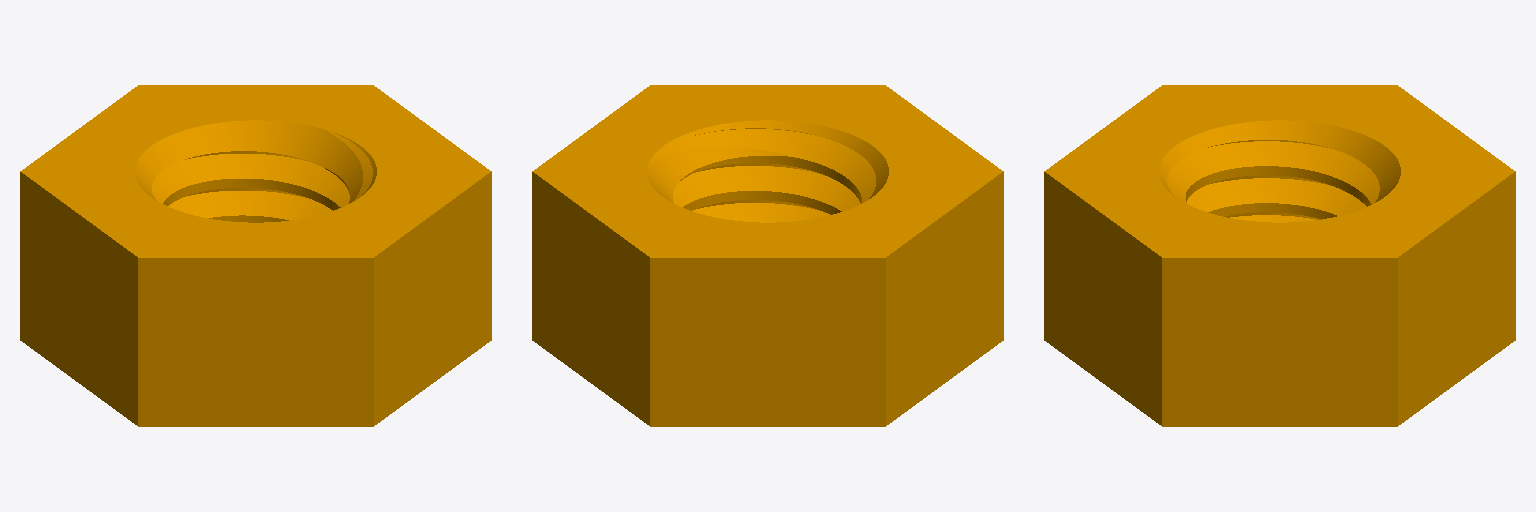
robot.urdf — nut_m4_tight_CM:
<?xml version="1.0"?>
<robot name="nut_m4_tight_CM">
  <link name="nut_m4_tight_CM">
    <visual>
      <origin xyz="0.0 0.0 0.0"/>
      <geometry>
        <mesh filename="nut_m4_tight.obj" scale="100 100 100"/>
      </geometry>
    </visual>
    <collision>
      <origin xyz="0.0 0.0 0.0"/>
      <geometry>
        <mesh filename="nut_m4_tight.obj" scale="100 100 100"/>
      </geometry>
      <sdf resolution="256"/>
    </collision>
    <inertial>
      <mass value="0.0008"/>
      <origin xyz="0 0 0.56" rpy="0 0 0"/>
      <inertia ixx="4.1e-5" ixy="0.0" ixz="0.0" iyy="4.1e-5" iyz="0.0" izz="6.86e-5"/>
    </inertial>
  </link>
</robot>

--- Facts derived from the render (not from the file) ---
Views: 3 orthographic renders of the robot side by side, from view 1: azimuth 30°, elevation 25°; view 2: azimuth 150°, elevation 25°; view 3: azimuth 270°, elevation 25°.
Model nut_m4_tight_CM with 1 links and 0 joints (none), rooted at nut_m4_tight_CM, posed every joint at zero.
Links seen in each view (by area): view 1: nut_m4_tight_CM; view 2: nut_m4_tight_CM; view 3: nut_m4_tight_CM.
Boxes of the visible links, x1=… form: nut_m4_tight_CM: x1=20, y1=85, x2=491, y2=426; nut_m4_tight_CM: x1=532, y1=85, x2=1003, y2=426; nut_m4_tight_CM: x1=1044, y1=85, x2=1515, y2=426.
Size in the robot's own frame: 0.7 by 0.8083 by 0.32 metres.
1 mesh visuals loaded from 1 distinct referenced files (1 OBJ).